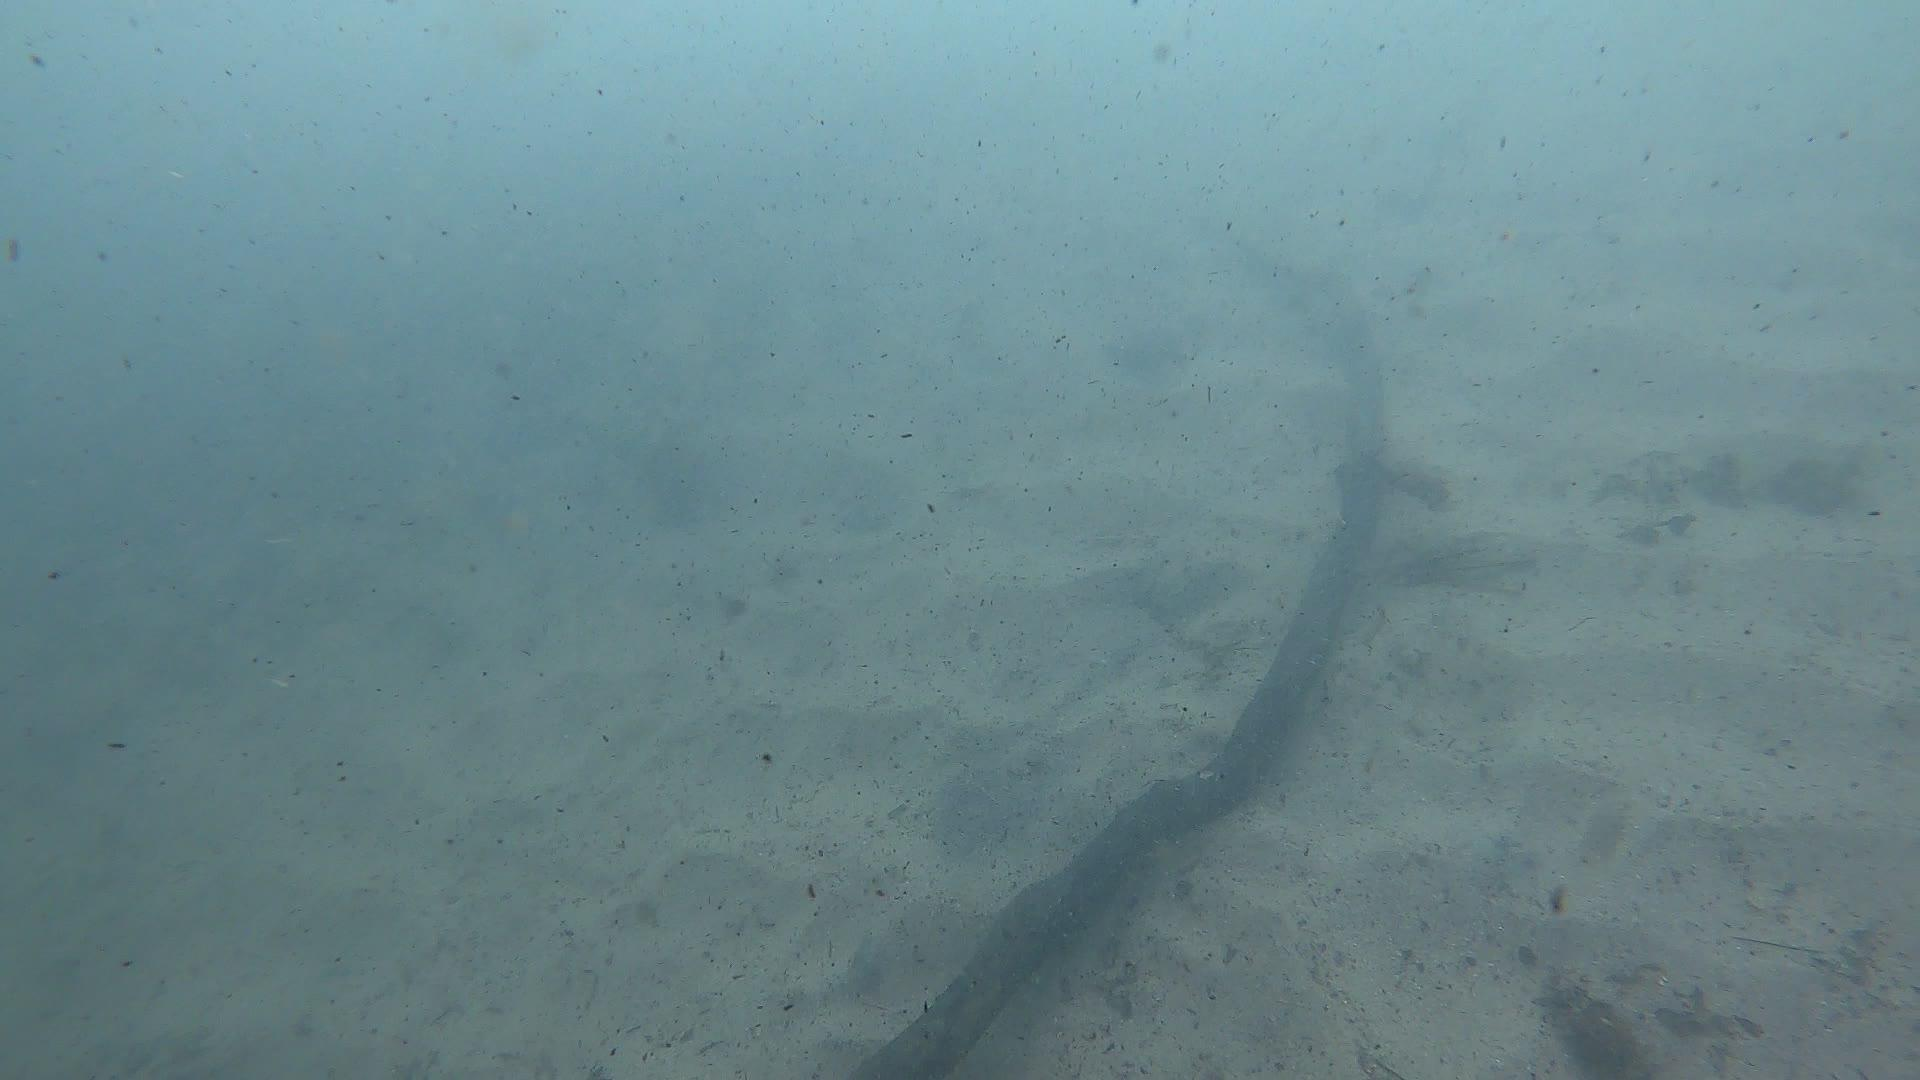wood: (865, 225, 1373, 1080)
